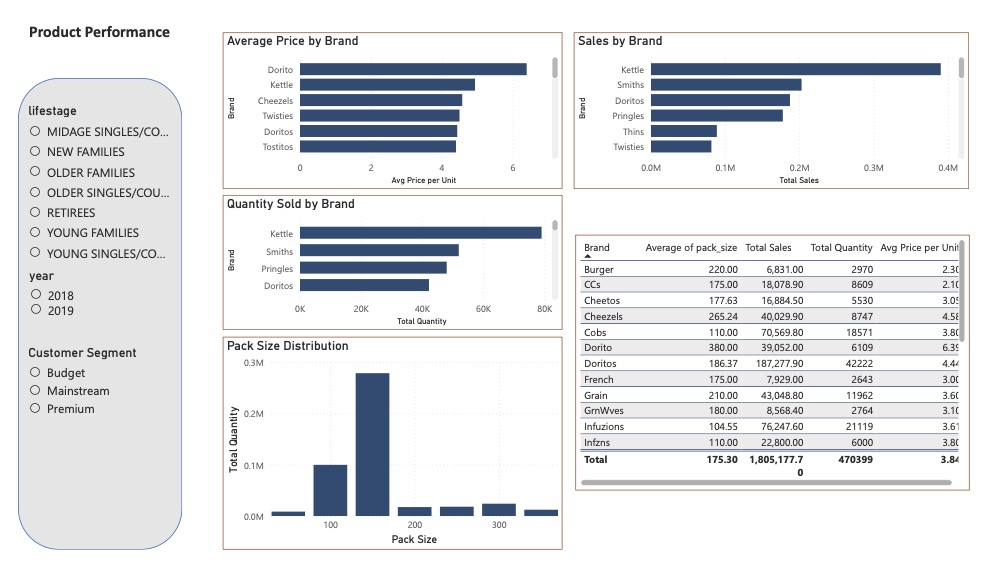

What the dashboard file says about the page in this screenshot:
{"tool":"powerbi","page":{"name":" Product Overview","canvas":[1280,720],"ordinal":2},"visuals":[{"type":"textbox","box":[11.2,0,243.8,53.8],"z":0},{"type":"textbox","box":[20,91.4,1251.4,48.6],"z":1000},{"type":"PBI_CV_7B952816_A48F_49B4_9E13_15E3BB2C0337","title":"Total Revenue","fields":{"Values":["data_clean.Total Sales"]},"box":[20,140,300,57.1],"z":2000},{"type":"advanceCardE03760C5AB684758B56AA29F9E6C257B","fields":{"mainMeasure":["data_clean.Insight T Revenue"]},"box":[20,197.1,300,40],"z":3000},{"type":"card","title":"Top Brand","fields":{"Values":["data_clean.Top brand"]},"box":[320,140,320,57.1],"z":4000},{"type":"clusteredBarChart","title":"Sale vs quantity by Brand","fields":{"Y":["data_clean.Total Sales","data_clean.Total Quantity"],"Category":["data_clean.Brand"]},"box":[731.4,320,538.6,195.7],"z":5000},{"type":"card","title":"Avg Price per Unit","fields":{"Values":["data_clean.Avg Price per Unit"]},"box":[951.4,140,320,57.1],"z":6000},{"type":"advanceCardE03760C5AB684758B56AA29F9E6C257B","fields":{"mainMeasure":["data_clean.Insight Top Brand kPI"]},"box":[318.6,197.1,321.4,40],"z":7000},{"type":"advanceCardE03760C5AB684758B56AA29F9E6C257B","title":"Total Transaction","fields":{"mainMeasure":["data_clean.Insight Total Quantity"]},"box":[640,197.1,311.4,40],"z":8000},{"type":"advanceCardE03760C5AB684758B56AA29F9E6C257B","title":"Total Transaction","fields":{"mainMeasure":["data_clean.Insight Transcations"]},"box":[951.4,197.1,320,40],"z":9000},{"type":"clusteredBarChart","title":"Sales by Brand","fields":{"Category":["data_clean.Brand"],"Y":["data_clean.Total Sales"]},"box":[20,320,524.3,195.7],"z":11000},{"type":"donutChart","title":"Revenue % by brand","fields":{"Y":["data_clean.Total Sales"],"Category":["data_clean.Brand Group"]},"box":[20,515.7,524.3,204.3],"z":13000},{"type":"textbox","box":[731.4,515.7,540,204.3],"z":17000},{"type":"textbox","box":[937.5,0,318.8,53.8],"z":18000},{"type":"card","title":"Total Quantity sold","fields":{"Values":["data_clean.Total Quantity"]},"box":[640,140,311.4,57.1],"z":20000},{"type":"textSlicer","title":"Life Stage","fields":{"Values":["data_clean.lifestage"]},"box":[762.9,237.1,291.4,82.9],"z":23000},{"type":"advancedSlicerVisual","title":"Customer Segment","fields":{"Values":["data_clean.premium_customer"]},"box":[170,237.1,407.1,82.9],"z":24000},{"type":"textbox","box":[544.8,46.7,234.6,46.7],"z":25000},{"type":"textbox","box":[263.5,46.7,281.3,46.7],"z":26000},{"type":"textbox","box":[20.6,46.7,242.9,46.7],"z":27000},{"type":"textbox","box":[779.4,46.7,220.9,46.7],"z":28000},{"type":"textbox","box":[1000.3,46.7,270.3,46.7],"z":29000}]}

Visuals, with their boxes in screenshot pixels (x1, y1, x2, y2), scaled from the page's 1280x720 canvas onto the 996x576 screenshot:
textbox: 9 0 198 43
textbox: 16 73 989 112
"Total Revenue" PBI_CV_7B952816_A48F_49B4_9E13_15E3BB2C0337: 16 112 249 158
advanceCardE03760C5AB684758B56AA29F9E6C257B - data_clean.Insight T Revenue: 16 158 249 190
"Top Brand" card: 249 112 498 158
"Sale vs quantity by Brand" clusteredBarChart: 569 256 988 413
"Avg Price per Unit" card: 740 112 989 158
advanceCardE03760C5AB684758B56AA29F9E6C257B - data_clean.Insight Top Brand kPI: 248 158 498 190
"Total Transaction" advanceCardE03760C5AB684758B56AA29F9E6C257B: 498 158 740 190
"Total Transaction" advanceCardE03760C5AB684758B56AA29F9E6C257B: 740 158 989 190
"Sales by Brand" clusteredBarChart: 16 256 424 413
"Revenue % by brand" donutChart: 16 413 424 575
textbox: 569 413 989 575
textbox: 729 0 978 43
"Total Quantity sold" card: 498 112 740 158
"Life Stage" textSlicer: 594 190 820 256
"Customer Segment" advancedSlicerVisual: 132 190 449 256
textbox: 424 37 606 75
textbox: 205 37 424 75
textbox: 16 37 205 75
textbox: 606 37 778 75
textbox: 778 37 989 75
